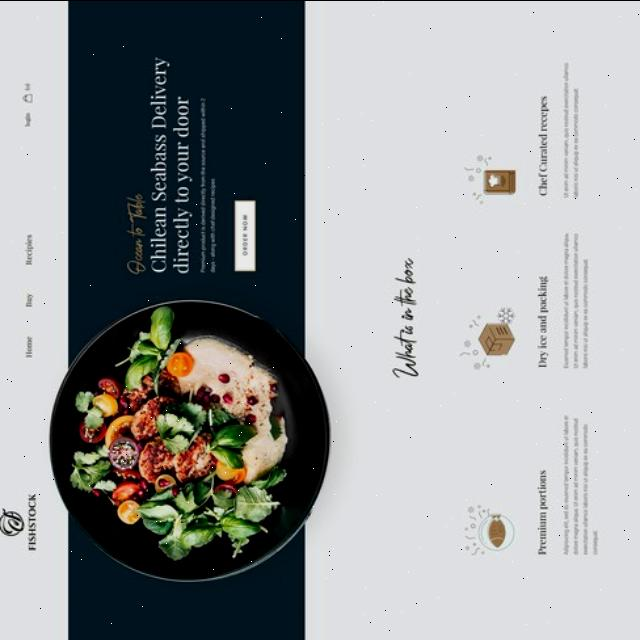QLabel: (146, 54, 192, 274), (561, 413, 601, 557), (196, 89, 220, 274), (561, 232, 591, 368), (391, 255, 419, 377), (561, 60, 581, 198), (534, 273, 552, 371), (536, 92, 552, 200), (534, 466, 550, 558), (240, 214, 250, 256), (23, 233, 33, 265), (24, 336, 34, 358), (24, 293, 34, 307), (23, 112, 31, 128), (25, 82, 31, 90)
VAppBar: (0, 0, 44, 640)
VBtn: (233, 198, 257, 272)
VIcon: (22, 94, 34, 102)
VImg: (48, 296, 332, 584), (457, 304, 518, 372), (459, 150, 519, 206), (462, 504, 516, 560), (0, 491, 40, 553)
